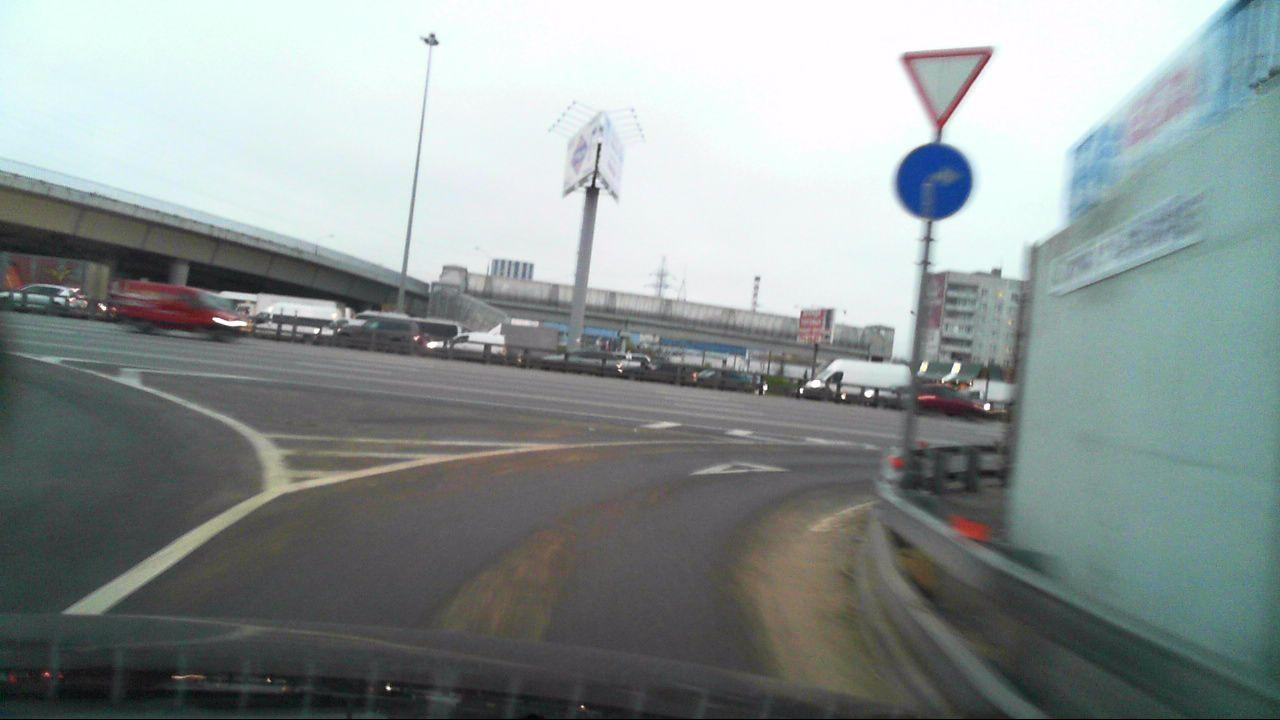2_4: (900, 47, 991, 127)
4_1_2: (895, 143, 972, 219)
